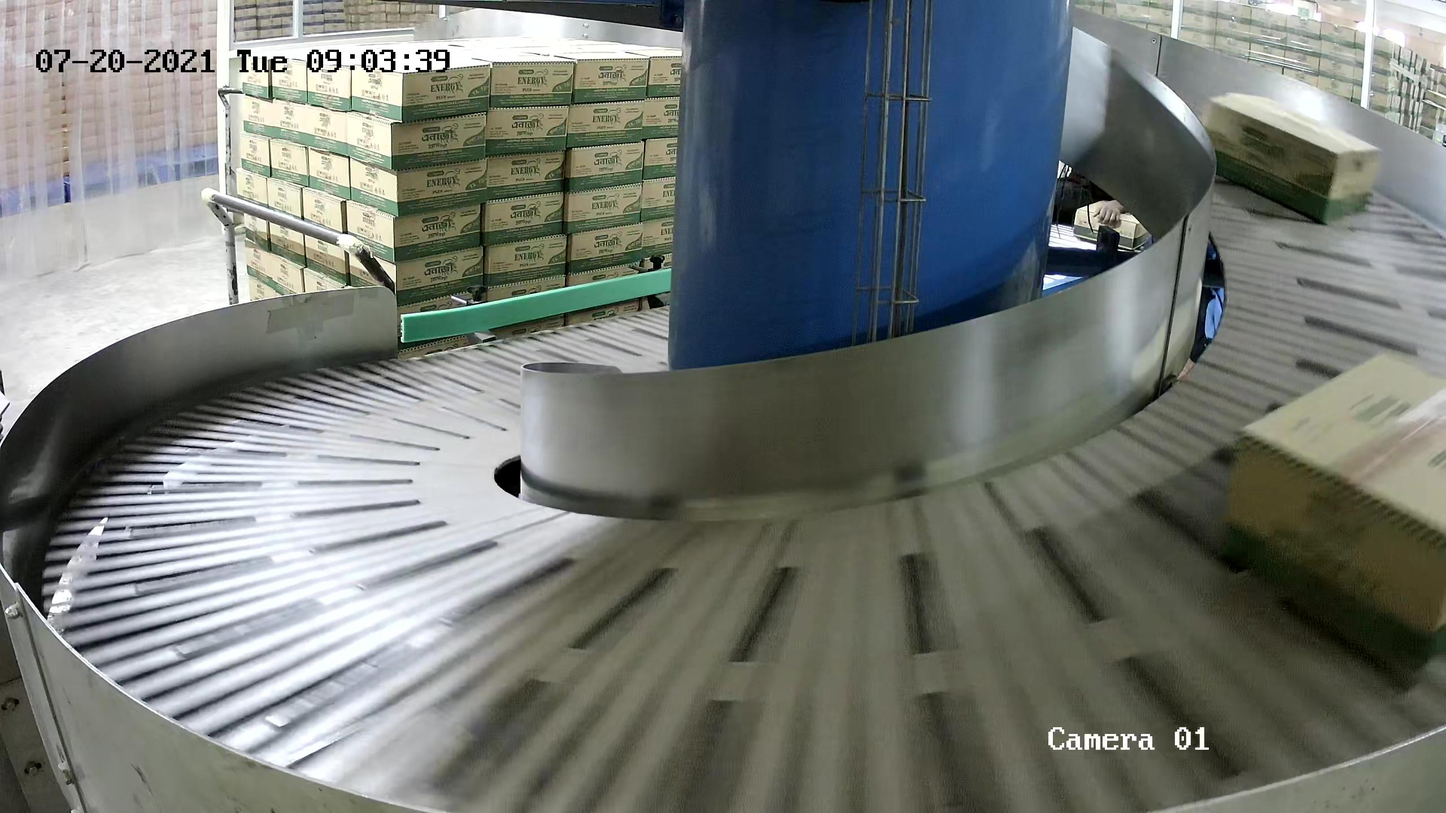Box: (1217, 346, 1446, 694), (1197, 89, 1386, 227)
